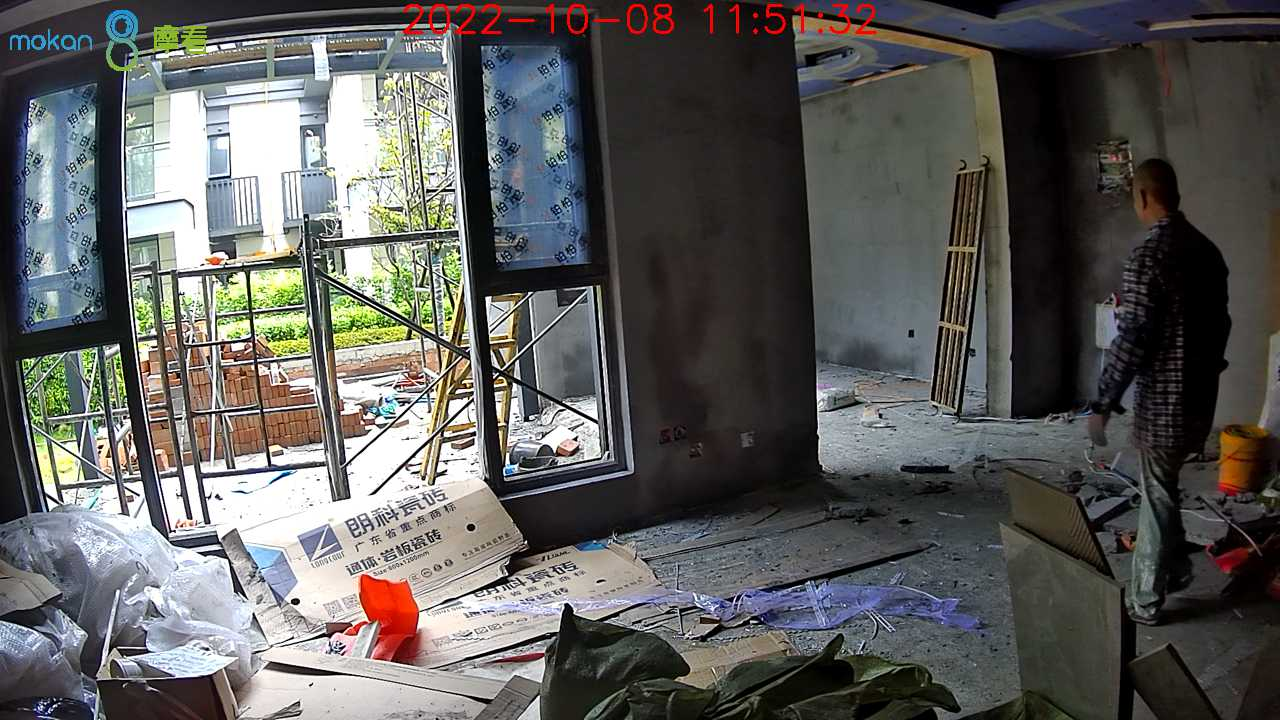people: (1087, 160, 1231, 629)
window: (4, 11, 619, 537)
